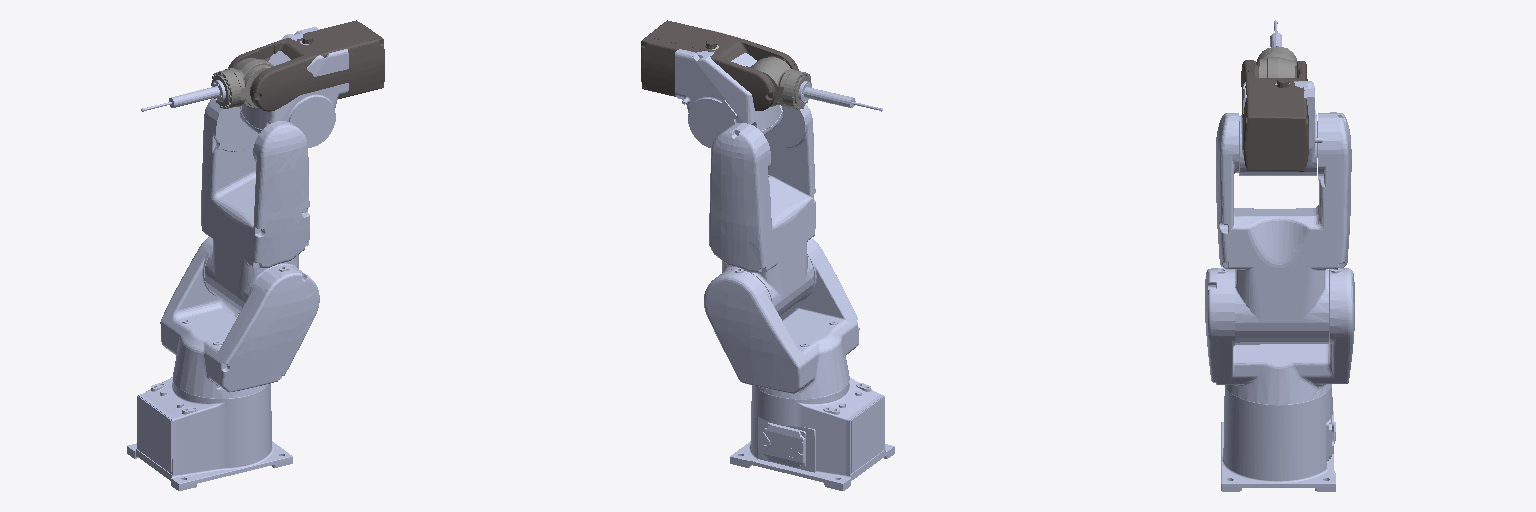
robot.urdf — robot_arm:
<?xml version="1.0" encoding="utf-8"?>
<!-- This URDF was automatically created by SolidWorks to URDF Exporter! Originally created by Stephen Brawner (brawner@gmail.com) 
     Commit Version: 1.6.0-4-g7f85cfe  Build Version: 1.6.7995.38578
     For more information, please see http://wiki.ros.org/sw_urdf_exporter -->
<robot
  name="robot_arm">
  <link
    name="base_link">
    <inertial>
      <origin
        xyz="-0.024587 0.077167 0.00011274"
        rpy="0 0 0" />
      <mass
        value="5.0495" />
      <inertia
        ixx="0.01978"
        ixy="-0.00092627"
        ixz="-9.7216E-05"
        iyy="0.029874"
        iyz="3.6241E-05"
        izz="0.02842" />
    </inertial>
    <visual>
      <origin
        xyz="0 0 0"
        rpy="0 0 0" />
      <geometry>
        <mesh
          filename="package://robot_arm/meshes/base_link.STL" />
      </geometry>
      <material
        name="">
        <color
          rgba="0.79216 0.81961 0.93333 1" />
      </material>
    </visual>
    <collision>
      <origin
        xyz="0 0 0"
        rpy="0 0 0" />
      <geometry>
        <mesh
          filename="package://robot_arm/meshes/base_link.STL" />
      </geometry>
    </collision>
  </link>
  <link
    name="Link1">
    <inertial>
      <origin
        xyz="0.0224756261778803 -0.000797997527248318 0.0877861007019449"
        rpy="0 0 0" />
      <mass
        value="4.54026447754357" />
      <inertia
        ixx="0.0439563617398621"
        ixy="0.000451393261322545"
        ixz="-0.00691603870481324"
        iyy="0.0271593728509738"
        iyz="0.000803229348907677"
        izz="0.0389898241893046" />
    </inertial>
    <visual>
      <origin
        xyz="0 0 0"
        rpy="0 0 0" />
      <geometry>
        <mesh
          filename="package://robot_arm/meshes/Link1.STL" />
      </geometry>
      <material
        name="">
        <color
          rgba="0.792156862745098 0.819607843137255 0.933333333333333 1" />
      </material>
    </visual>
    <collision>
      <origin
        xyz="0 0 0"
        rpy="0 0 0" />
      <geometry>
        <mesh
          filename="package://robot_arm/meshes/Link1.STL" />
      </geometry>
    </collision>
  </link>
  <joint
    name="Joint1"
    type="revolute">
    <origin
      xyz="0 0 0"
      rpy="0 0 0" />
    <parent
      link="base_link" />
    <child
      link="Link1" />
    <axis
      xyz="0 0 1" />
    <limit
      lower="-2.967"
      upper="2.967"
      effort="150"
      velocity="6.11" />
  </joint>
  <link
    name="Link2">
    <inertial>
      <origin
        xyz="-0.000140896570261742 0.0105622622131184 0.109985239664837"
        rpy="0 0 0" />
      <mass
        value="5.95472531294651" />
      <inertia
        ixx="0.0851698209612332"
        ixy="2.89432533536037E-05"
        ixz="-0.000173456407543557"
        iyy="0.0675078497600299"
        iyz="-0.0041889171238514"
        izz="0.0296103238071331" />
    </inertial>
    <visual>
      <origin
        xyz="0 0 0"
        rpy="0 0 0" />
      <geometry>
        <mesh
          filename="package://robot_arm/meshes/Link2.STL" />
      </geometry>
      <material
        name="">
        <color
          rgba="0.792156862745098 0.819607843137255 0.933333333333333 1" />
      </material>
    </visual>
    <collision>
      <origin
        xyz="0 0 0"
        rpy="0 0 0" />
      <geometry>
        <mesh
          filename="package://robot_arm/meshes/Link2.STL" />
      </geometry>
    </collision>
  </link>
  <joint
    name="Joint2"
    type="revolute">
    <origin
      xyz="0.075 0 0.33"
      rpy="1.57 0 0" />
    <parent
      link="Link1" />
    <child
      link="Link2" />
    <axis
      xyz="0 0 1" />
    <limit
      lower="-1.75"
      upper="1.75"
      effort="150"
      velocity="6.11" />
  </joint>
  <link
    name="Link3">
    <inertial>
      <origin
        xyz="0.000245796678696453 -0.00136336455811181 0.0378753736515582"
        rpy="0 0 0" />
      <mass
        value="2.71115428963789" />
      <inertia
        ixx="0.00858465271686806"
        ixy="-4.16707166909845E-06"
        ixz="-0.00171913214279894"
        iyy="0.0103271591455402"
        iyz="-3.78849860053356E-05"
        izz="0.00837562494711608" />
    </inertial>
    <visual>
      <origin
        xyz="0 0 0"
        rpy="0 0 0" />
      <geometry>
        <mesh
          filename="package://robot_arm/meshes/Link3.STL" />
      </geometry>
      <material
        name="">
        <color
          rgba="0.792156862745098 0.819607843137255 0.933333333333333 1" />
      </material>
    </visual>
    <collision>
      <origin
        xyz="0 0 0"
        rpy="0 0 0" />
      <geometry>
        <mesh
          filename="package://robot_arm/meshes/Link3.STL" />
      </geometry>
    </collision>
  </link>
  <joint
    name="Joint3"
    type="revolute">
    <origin
      xyz="0.075 0.33 0"
      rpy="0 0 1.57" />
    <parent
      link="Link2" />
    <child
      link="Link3" />
    <axis
      xyz="0 0 1" />
    <limit
      lower="-3.39"
      upper="3.39"
      effort="150"
      velocity="6.98" />
  </joint>
  <link
    name="Link4">
    <inertial>
      <origin
        xyz="0.390957843412872 0.000276206976857478 -0.206951668118112"
        rpy="0 0 0" />
      <mass
        value="2.15553760577628" />
      <inertia
        ixx="0.00387370718161552"
        ixy="-0.000133933494837955"
        ixz="7.17412400422939E-06"
        iyy="0.0113704826241898"
        iyz="5.78800180337118E-06"
        izz="0.0120835079389071" />
    </inertial>
    <visual>
      <origin
        xyz="0 0 0"
        rpy="0 0 0" />
      <geometry>
        <mesh
          filename="package://robot_arm/meshes/Link4.STL" />
      </geometry>
      <material
        name="">
        <color
          rgba="0.43921568627451 0.411764705882353 0.411764705882353 1" />
      </material>
    </visual>
    <collision>
      <origin
        xyz="0 0 0"
        rpy="0 0 0" />
      <geometry>
        <mesh
          filename="package://robot_arm/meshes/Link4.STL" />
      </geometry>
    </collision>
  </link>
  <joint
    name="Joint4"
    type="revolute">
    <origin
      xyz="0.075 -0.161 0"
      rpy="-1.57 0 0" />
    <parent
      link="Link3" />
    <child
      link="Link4" />
    <axis
      xyz="0 0 1" />
    <limit
      lower="-3.316"
      upper="3.316"
      effort="150"
      velocity="7.85" />
  </joint>
  <link
    name="Link5">
    <inertial>
      <origin
        xyz="0.0153078358067961 -0.00390501982490909 -1.11706704886139E-07"
        rpy="0 0 0" />
      <mass
        value="0.447123905264563" />
      <inertia
        ixx="0.00030836353178728"
        ixy="1.26356728682592E-05"
        ixz="-3.26814027079089E-09"
        iyy="0.000602738411651049"
        iyz="6.39531672572682E-09"
        izz="0.000549103673934344" />
    </inertial>
    <visual>
      <origin
        xyz="0 0 0"
        rpy="0 0 0" />
      <geometry>
        <mesh
          filename="package://robot_arm/meshes/Link5.STL" />
      </geometry>
      <material
        name="">
        <color
          rgba="0.6 0.6 0.6 1" />
      </material>
    </visual>
    <collision>
      <origin
        xyz="0 0 0"
        rpy="0 0 0" />
      <geometry>
        <mesh
          filename="package://robot_arm/meshes/Link5.STL" />
      </geometry>
    </collision>
  </link>
  <joint
    name="Joint5"
    type="revolute">
    <origin
      xyz="0 0 0.2403"
      rpy="-1.57 0 0" />
    <parent
      link="Link4" />
    <child
      link="Link5" />
    <axis
      xyz="0 0 1" />
    <limit
      lower="-2.09"
      upper="2.09"
      effort="150"
      velocity="7.85" />
  </joint>
  <link
    name="Link6">
    <inertial>
      <origin
        xyz="0.172876230178328 -0.116039584918471 -0.237188103266103"
        rpy="0 0 0" />
      <mass
        value="0.0461035576298475" />
      <inertia
        ixx="3.75464498916304E-05"
        ixy="1.59854217739847E-13"
        ixz="6.09301675370711E-09"
        iyy="3.75095143576814E-05"
        iyz="-7.95685761949095E-13"
        izz="4.35514695308084E-06" />
    </inertial>
    <visual>
      <origin
        xyz="0 0 0"
        rpy="0 0 0" />
      <geometry>
        <mesh
          filename="package://robot_arm/meshes/Link6.STL" />
      </geometry>
      <material
        name="">
        <color
          rgba="0.792156862745098 0.819607843137255 0.933333333333333 1" />
      </material>
    </visual>
    <collision>
      <origin
        xyz="0 0 0"
        rpy="0 0 0" />
      <geometry>
        <mesh
          filename="package://robot_arm/meshes/Link6.STL" />
      </geometry>
    </collision>
  </link>
  <joint
    name="Joint6"
    type="revolute">
    <origin
      xyz="0 -0.08 0"
      rpy="1.57 0 0" />
    <parent
      link="Link5" />
    <child
      link="Link6" />
    <axis
      xyz="0 0 1" />
    <limit
      lower="-6.283"
      upper="6.283"
      effort="150"
      velocity="12.566" />
  </joint>
</robot>

--- Facts derived from the render (not from the file) ---
Views: 3 orthographic renders of the robot side by side, from view 1: azimuth 30°, elevation 25°; view 2: azimuth 150°, elevation 25°; view 3: azimuth 270°, elevation 25°.
Model robot_arm with 7 links and 6 joints (6 revolute), rooted at base_link, posed every joint at zero.
Visible links, largest first — view 1: Link2, Link1, base_link, Link4, Link3, Link5, Link6; view 2: Link2, Link1, base_link, Link4, Link3, Link5, Link6; view 3: Link2, Link1, base_link, Link4, Link3, Link5.
Boxes of the visible links, left/top/right/bottom form: Link2: left=201, top=98, right=309, bottom=312; Link1: left=160, top=237, right=319, bottom=398; base_link: left=127, top=377, right=292, bottom=490; Link4: left=228, top=20, right=384, bottom=111; Link3: left=240, top=27, right=348, bottom=147; Link5: left=211, top=58, right=273, bottom=108; Link6: left=141, top=80, right=225, bottom=111; Link2: left=709, top=104, right=815, bottom=315; Link1: left=704, top=238, right=859, bottom=398; base_link: left=730, top=378, right=894, bottom=490; Link4: left=641, top=20, right=798, bottom=110; Link3: left=675, top=29, right=782, bottom=148; Link5: left=751, top=57, right=811, bottom=109; Link6: left=798, top=81, right=882, bottom=111; Link2: left=1216, top=112, right=1351, bottom=344; Link1: left=1205, top=268, right=1354, bottom=404; base_link: left=1221, top=386, right=1335, bottom=491; Link4: left=1241, top=60, right=1308, bottom=171; Link3: left=1239, top=81, right=1322, bottom=175; Link5: left=1256, top=46, right=1297, bottom=77.
Size in the robot's own frame: 0.4831 by 0.2491 by 0.7942 metres.
7 mesh visuals loaded from 7 distinct referenced files (7 binary STL).
